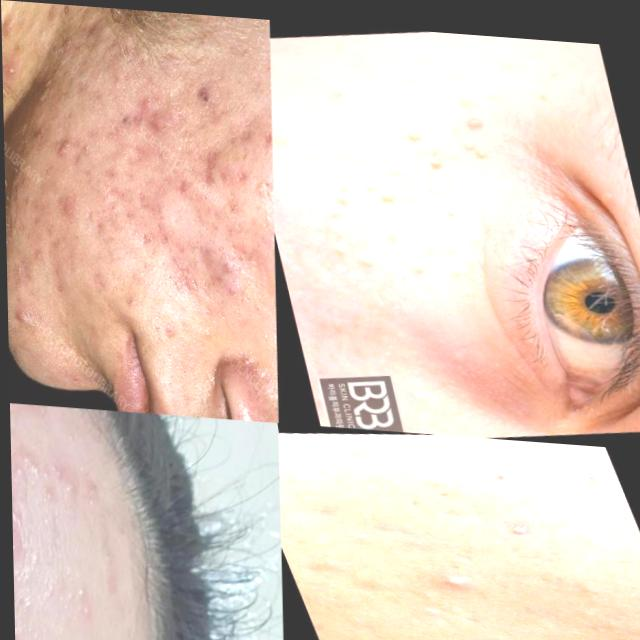7: (383, 85, 449, 140), (315, 167, 360, 216), (423, 232, 466, 278), (331, 234, 378, 269), (355, 170, 398, 203), (460, 127, 498, 159), (424, 146, 460, 179), (246, 321, 274, 356), (403, 251, 429, 274), (378, 221, 401, 241), (440, 197, 460, 213)
9: (8, 472, 28, 568), (1, 46, 28, 109), (429, 567, 471, 584), (406, 582, 436, 597), (281, 448, 313, 462)
blackheads: (174, 132, 229, 197), (37, 115, 90, 173), (220, 111, 259, 155), (5, 289, 41, 332), (52, 194, 87, 223)
dark spot: (214, 253, 237, 285)
